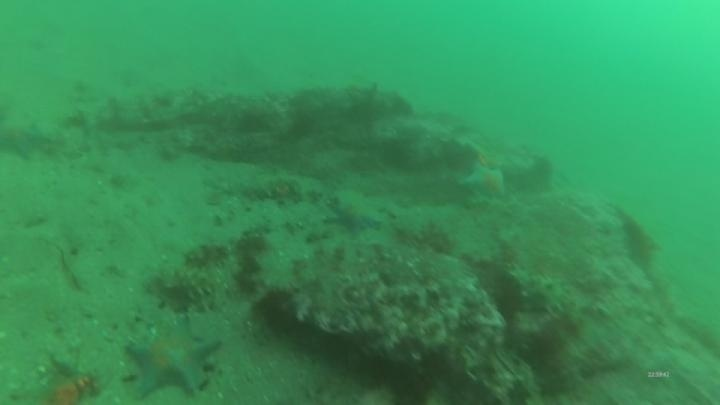holothurian: (504, 261, 573, 317), (144, 261, 222, 303), (236, 173, 308, 206)
starfish: (124, 316, 224, 402), (17, 354, 104, 404), (325, 192, 384, 238), (0, 117, 54, 164), (459, 160, 510, 203)
